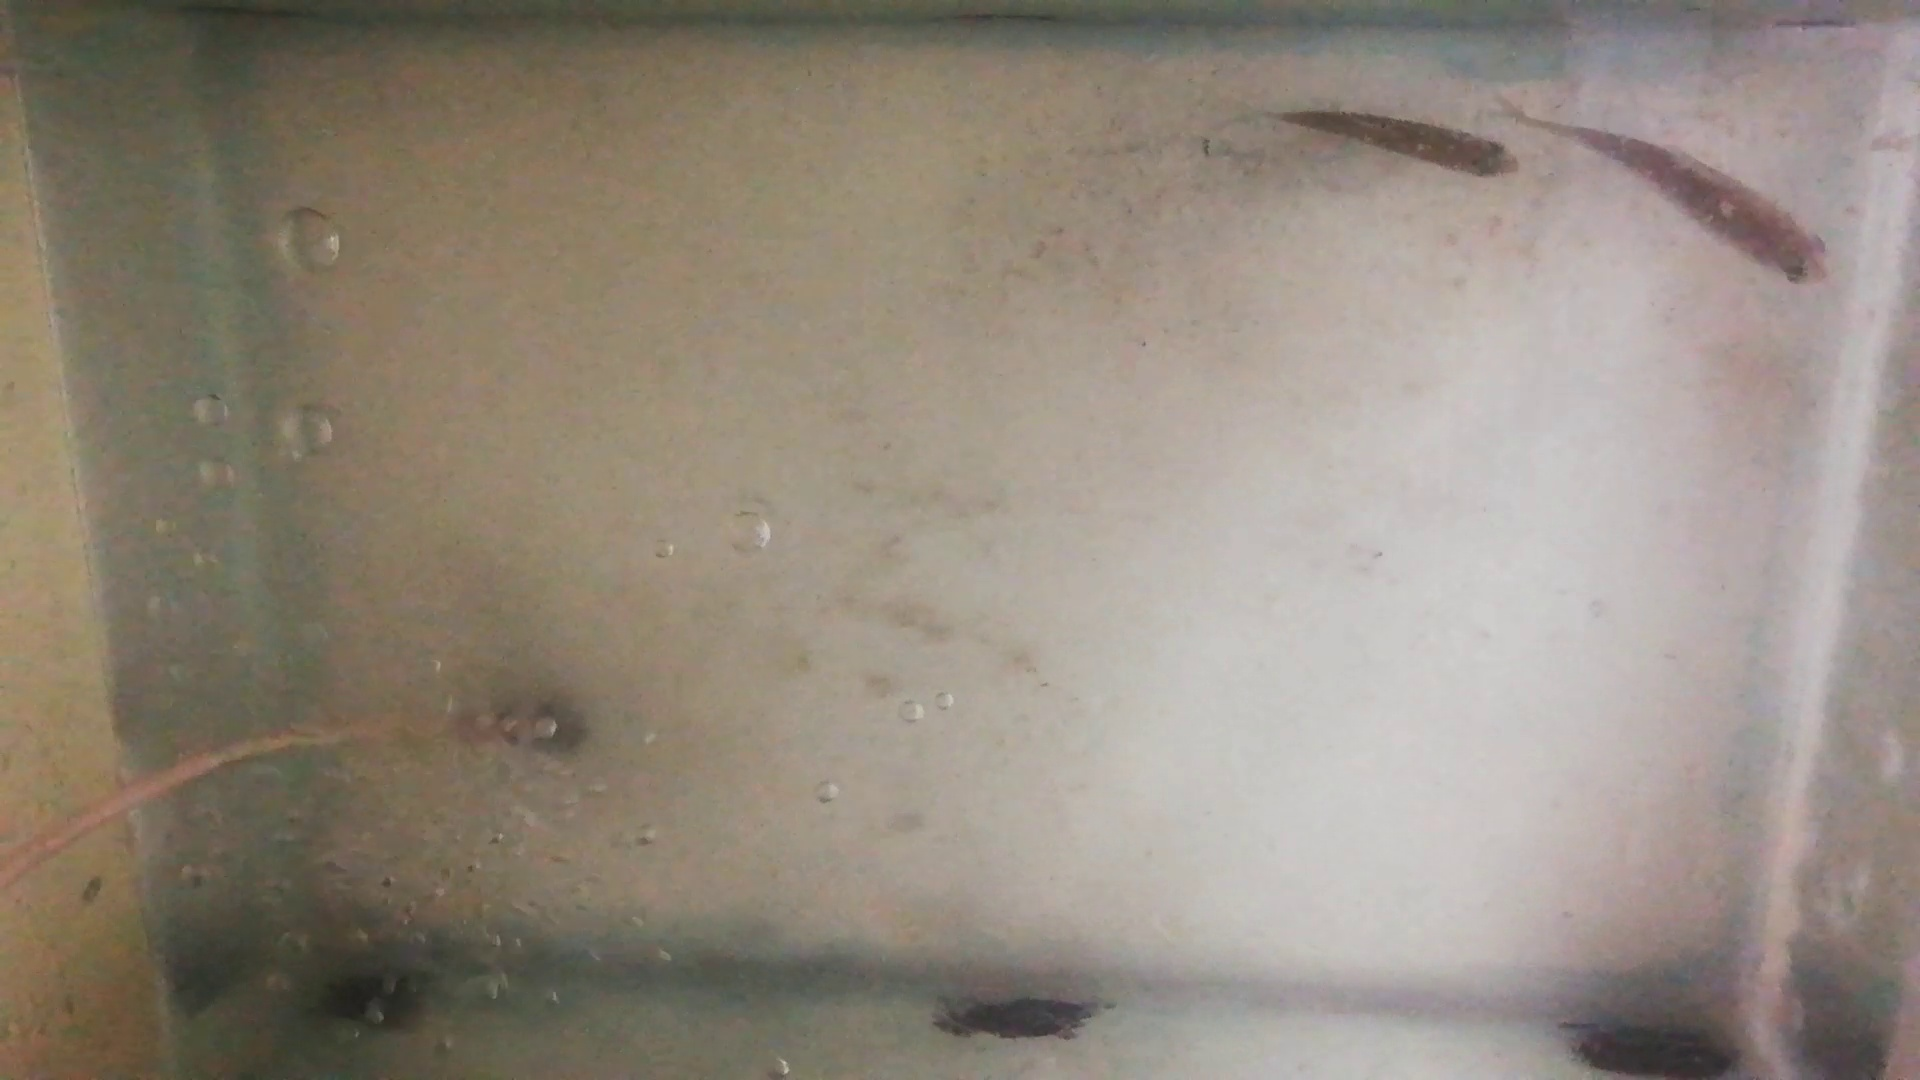fish: (1561, 127, 1828, 286), (1270, 107, 1522, 179)
